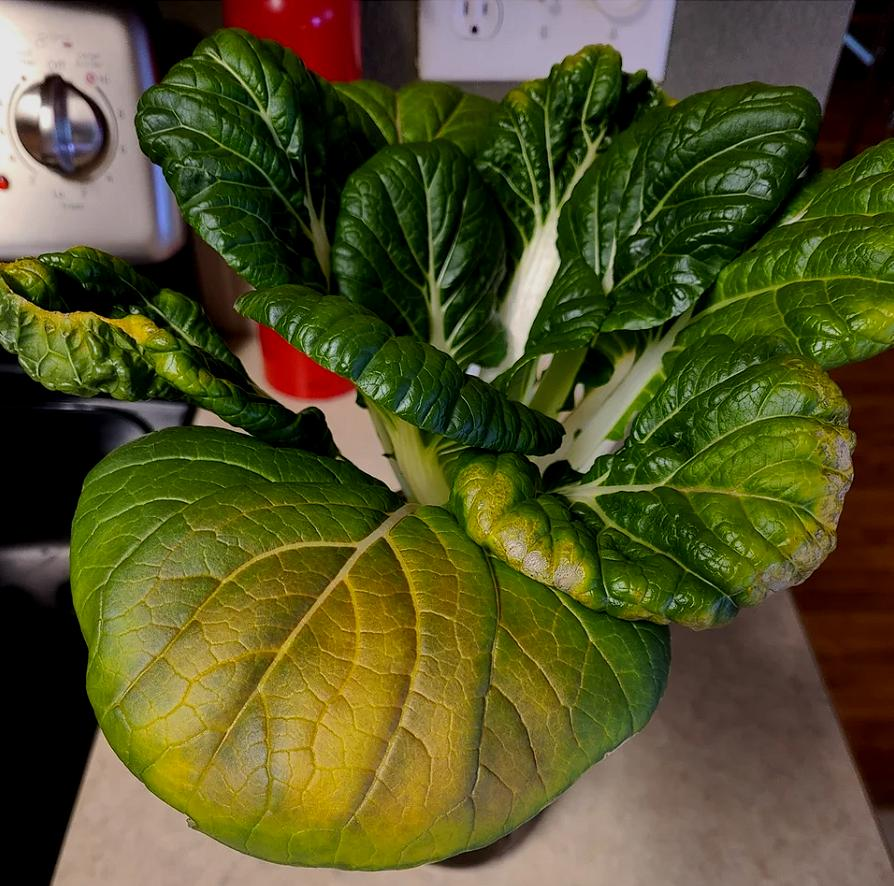Bok-Choy-Diseased: (53, 425, 663, 877), (468, 343, 863, 633), (0, 256, 309, 453)
